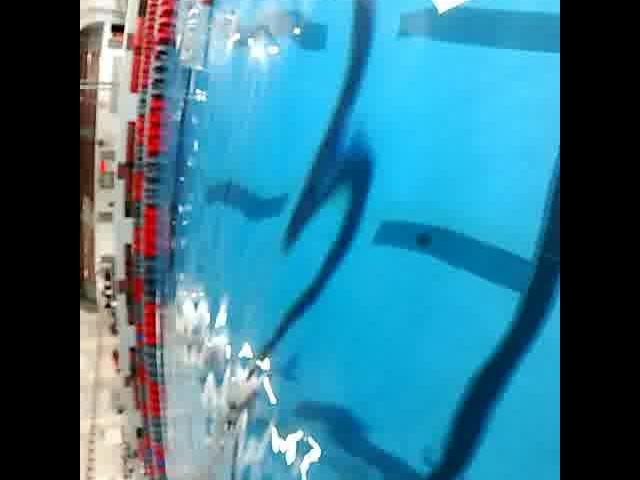Bottle: (175, 0, 218, 73)
